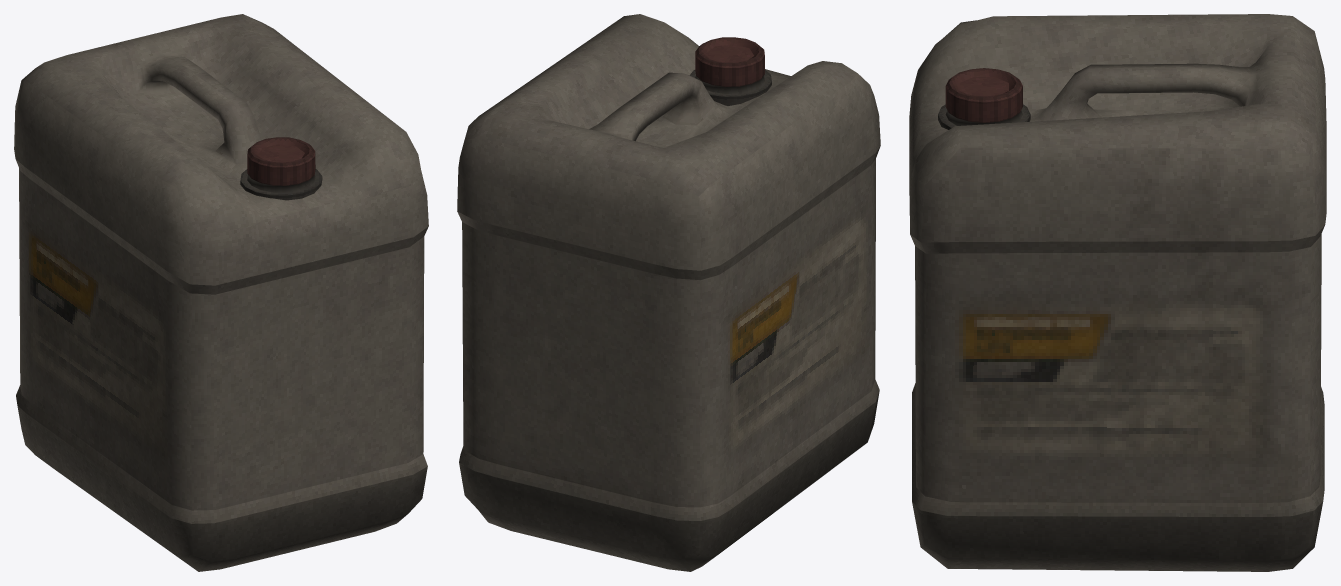
The model's file is jerrycan_1.glb.
3 views of the same model, side by side, from view 1: azimuth 30°, elevation 25°; view 2: azimuth 150°, elevation 25°; view 3: azimuth 270°, elevation 25° (orthographic). The views are drawn at different scales.
Parts seen in each view (by area): view 1: jerrycan_1; view 2: jerrycan_1; view 3: jerrycan_1.
Boxes of the visible parts, x1,y1,x2,y2 form: jerrycan_1: (14,14,428,571); jerrycan_1: (457,14,880,571); jerrycan_1: (909,14,1326,571).
Size of the model in its own units: 0.3364 by 0.503 by 0.4198.
1 material, 1 textured.
